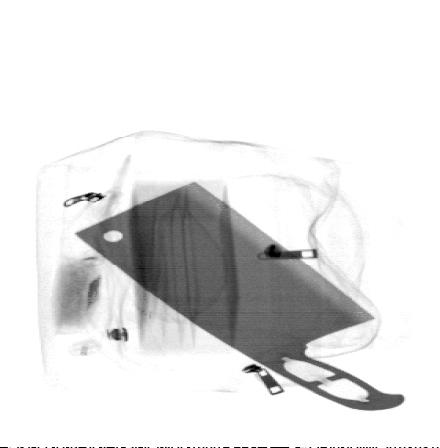Knife: (74, 180, 405, 412)
